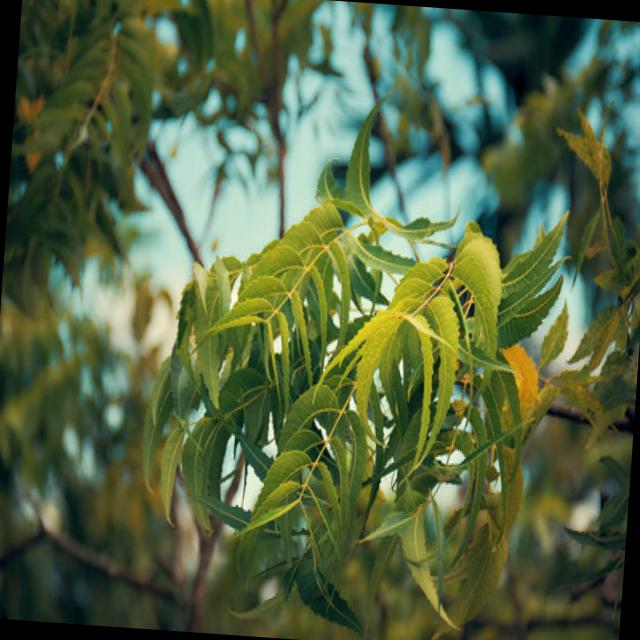Medicinal-Neem: (130, 99, 603, 640)
